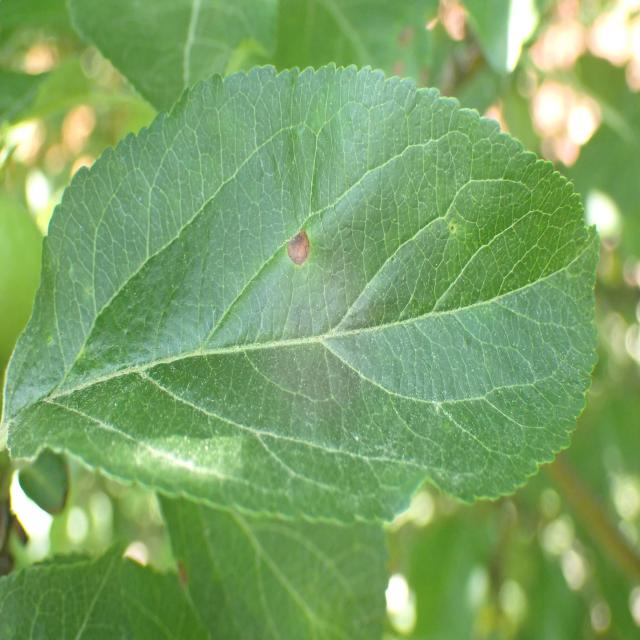Black Rot: (280, 210, 332, 298)
